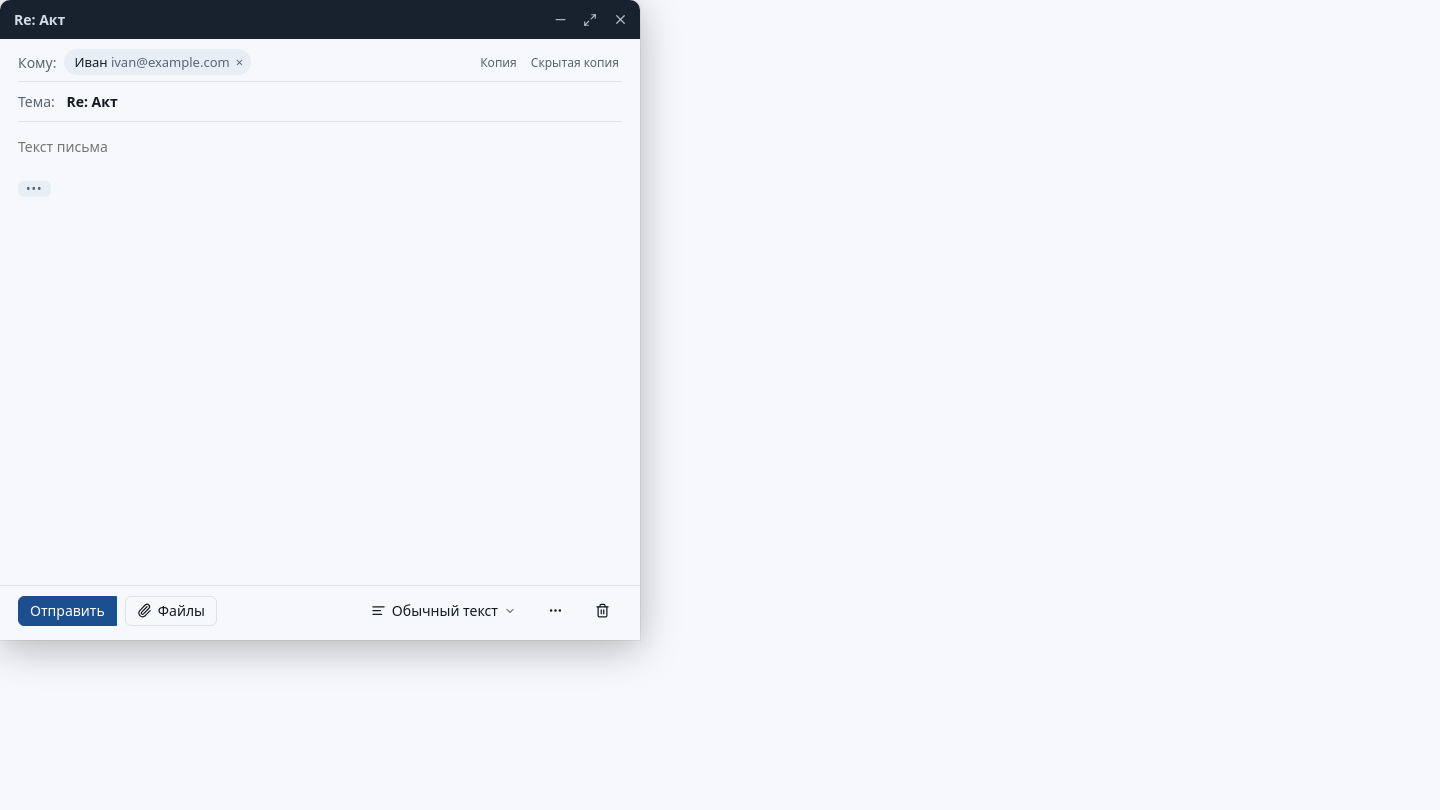
Scenario: the quote of a reply › folds the quote of a reply behind the dots, which open it by click, Alt+Q and as a button
The width and height of the screenshot is (1440, 810).
Click the button with class "dots" at (34, 189), box [18,181,50,197]
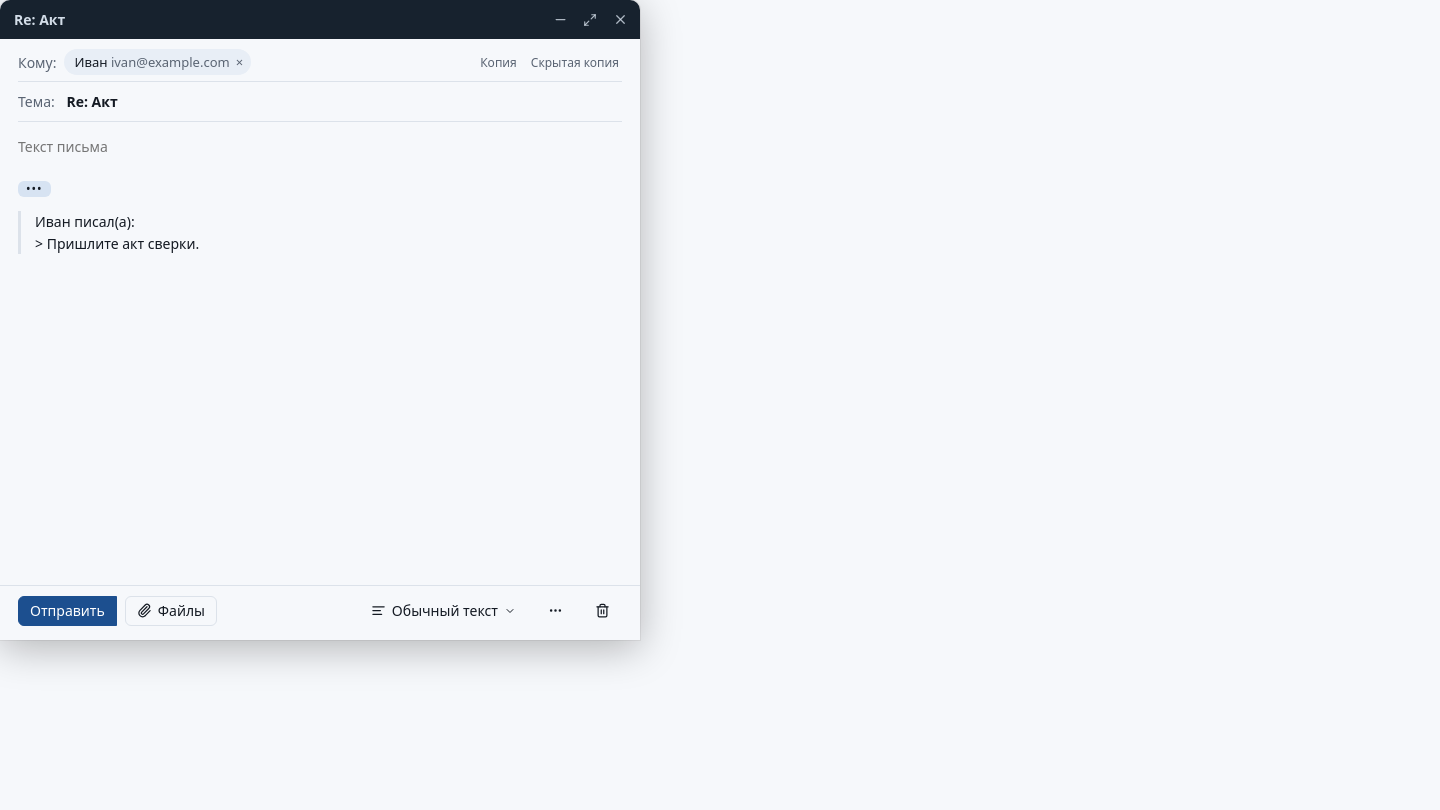
Expected: the button with class "dots" is expanded
Click the button with class "dots" at (34, 189), box [18,181,50,197]
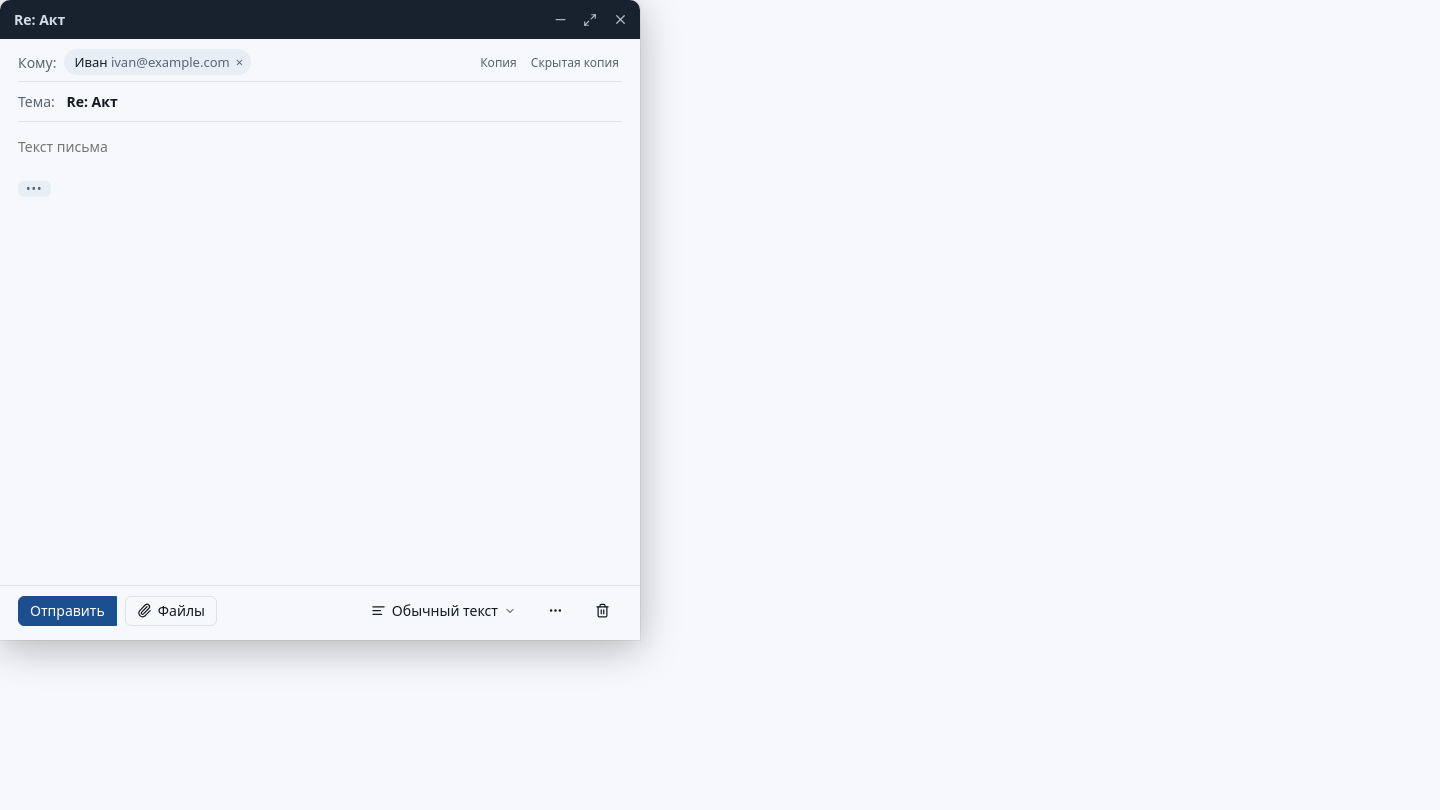
Expected: the text box is gone
Press q in the dialog with class "compose", box [0,0,640,640]
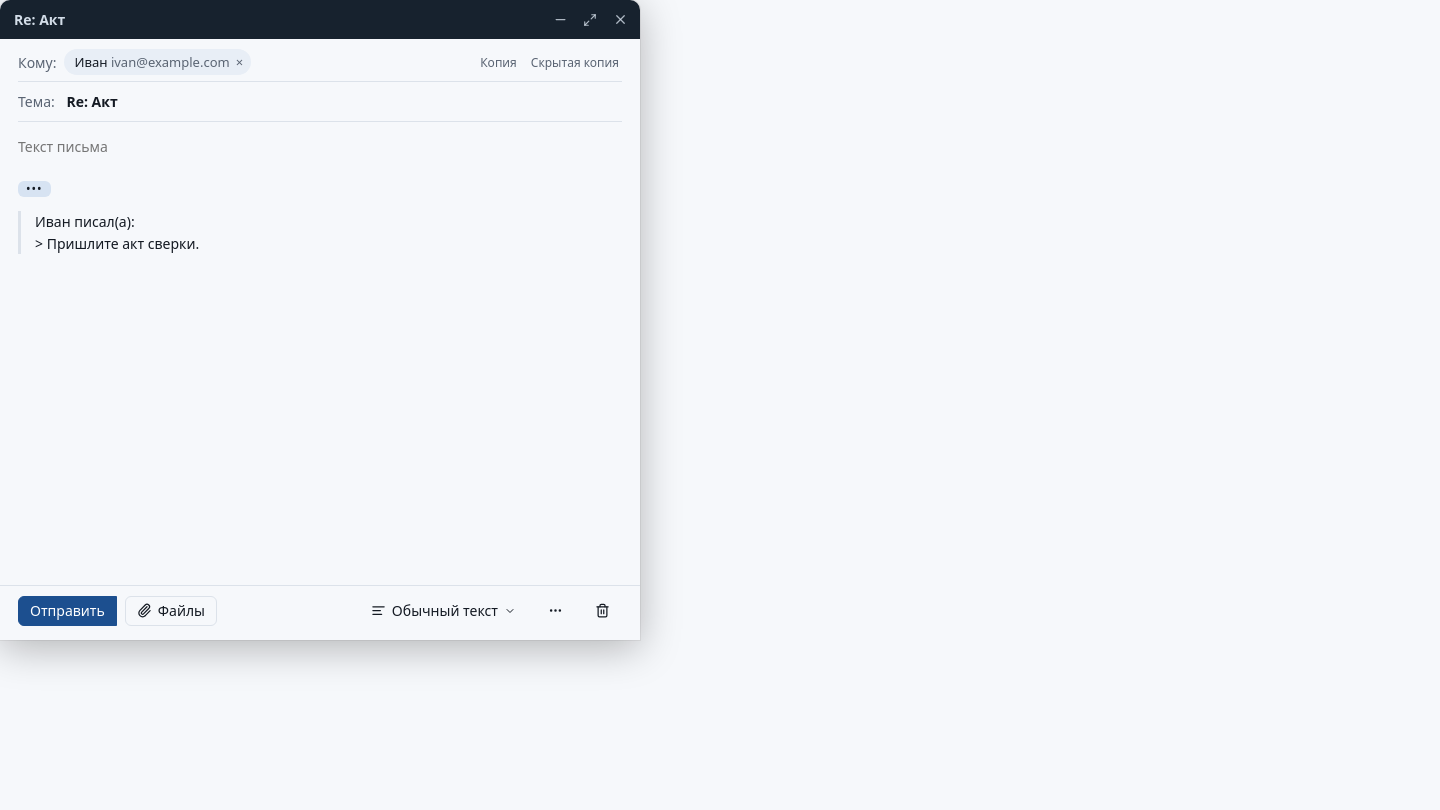
Expected: the text box named "Цитата" is shown, [18,211,622,254]
Press q in the dialog with class "compose", box [0,0,640,640]
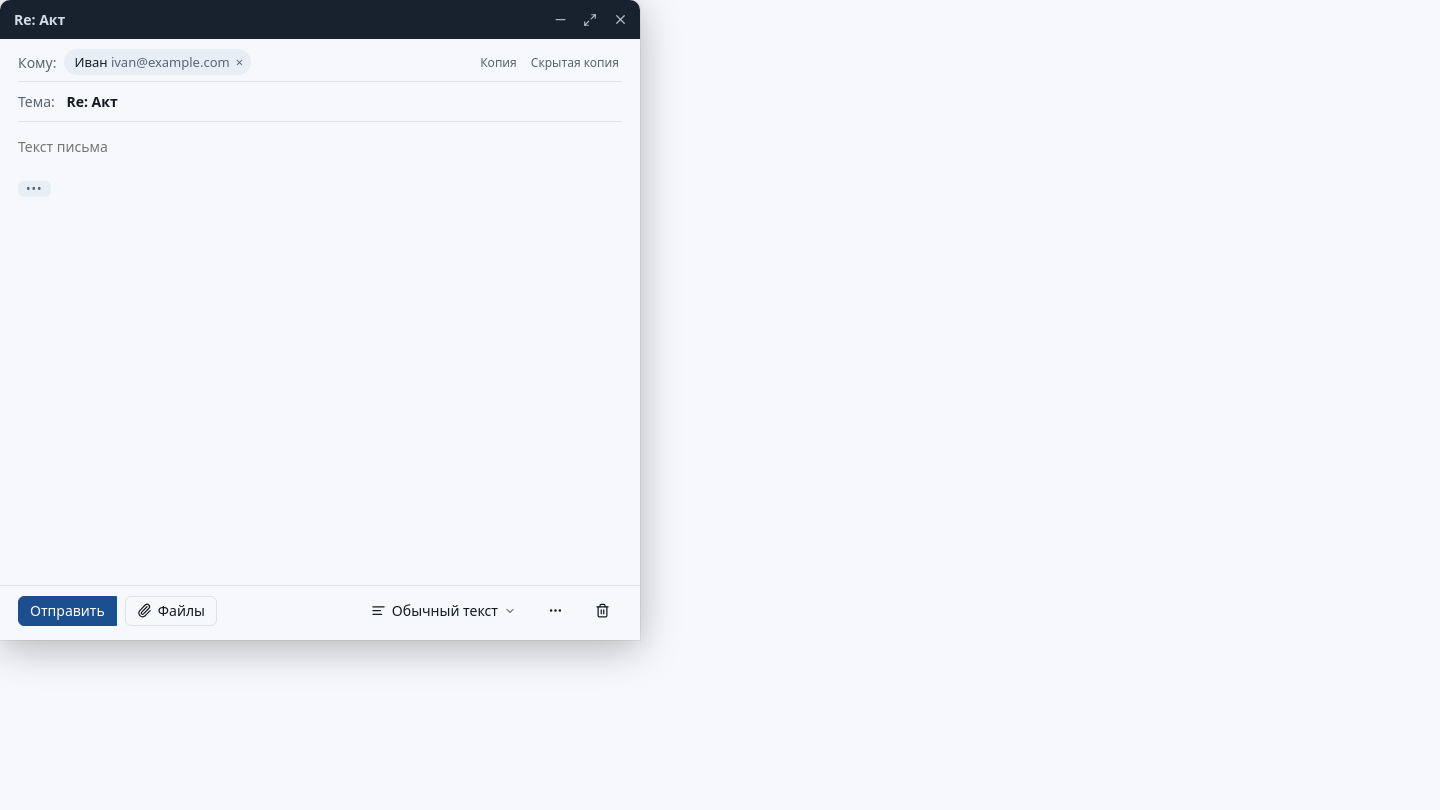
Expected: the text box is gone
